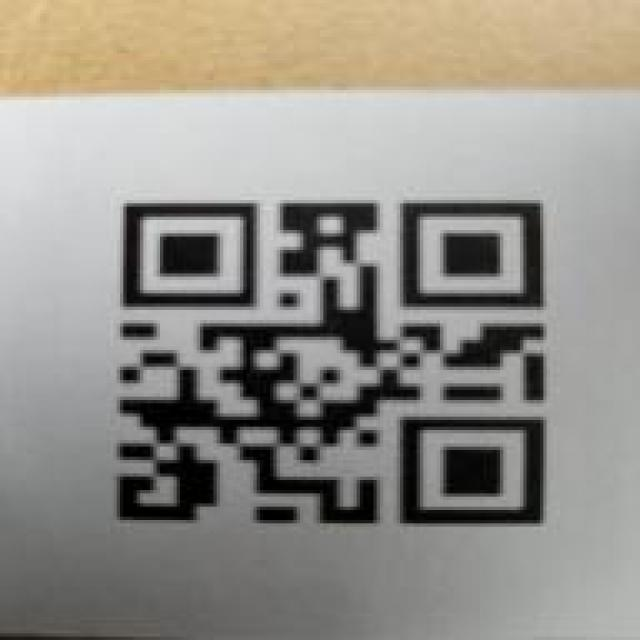qr_code: (117, 202, 545, 525)
